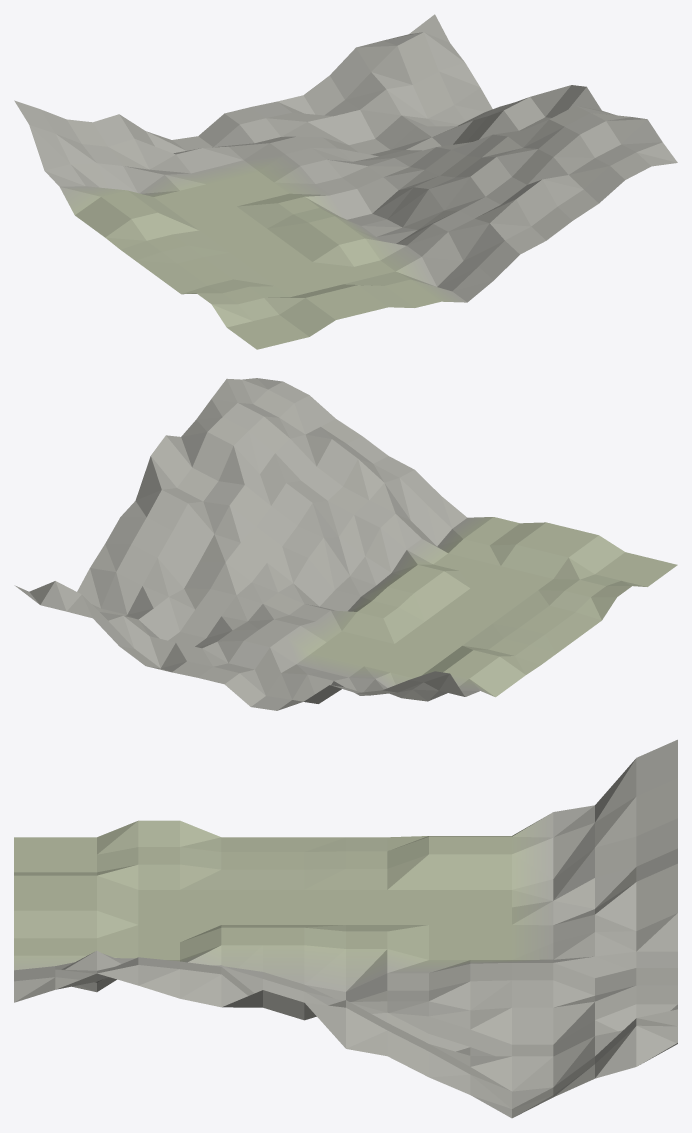
The picture shows the model from 3 angles, top to bottom: view 1: azimuth 30°, elevation 25°; view 2: azimuth 150°, elevation 25°; view 3: azimuth 270°, elevation 25°; orthographic projection. The views are drawn at different scales.
Bounding box in the file's own units: 32 × 8.46 × 32.
